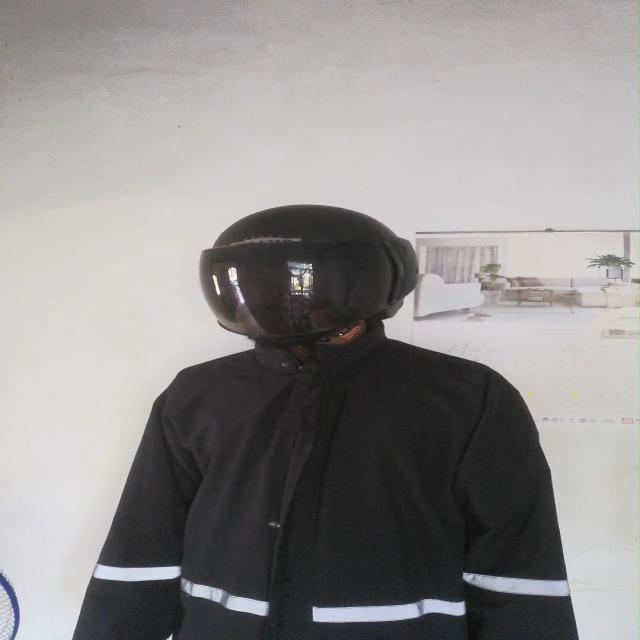Helmet_Wearer: (162, 199, 431, 363)
Jacket_Wearer: (68, 335, 594, 640)
Person: (70, 204, 591, 640)
